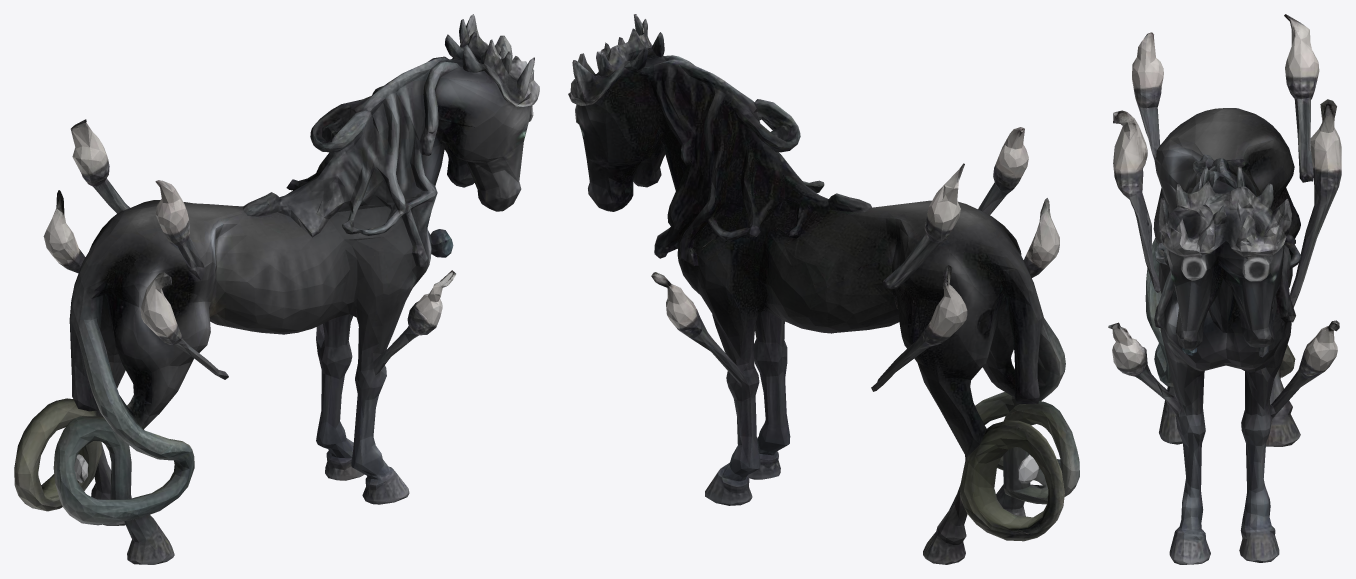
Rendered from mothmara__hecatesMare.glb.
The picture shows the model from 3 angles, left to right: view 1: azimuth 30°, elevation 25°; view 2: azimuth 150°, elevation 25°; view 3: azimuth 270°, elevation 25°; orthographic projection. The views are drawn at different scales.
Visible parts, largest first — view 1: world; view 2: world; view 3: world.
Boxes of the visible parts, x1=… form: world: x1=14, y1=14, x2=539, y2=564; world: x1=568, y1=14, x2=1079, y2=564; world: x1=1108, y1=14, x2=1341, y2=564.
Bounding box in the file's own units: 0.9979 × 0.8241 × 0.4.
1 material, 1 textured.
